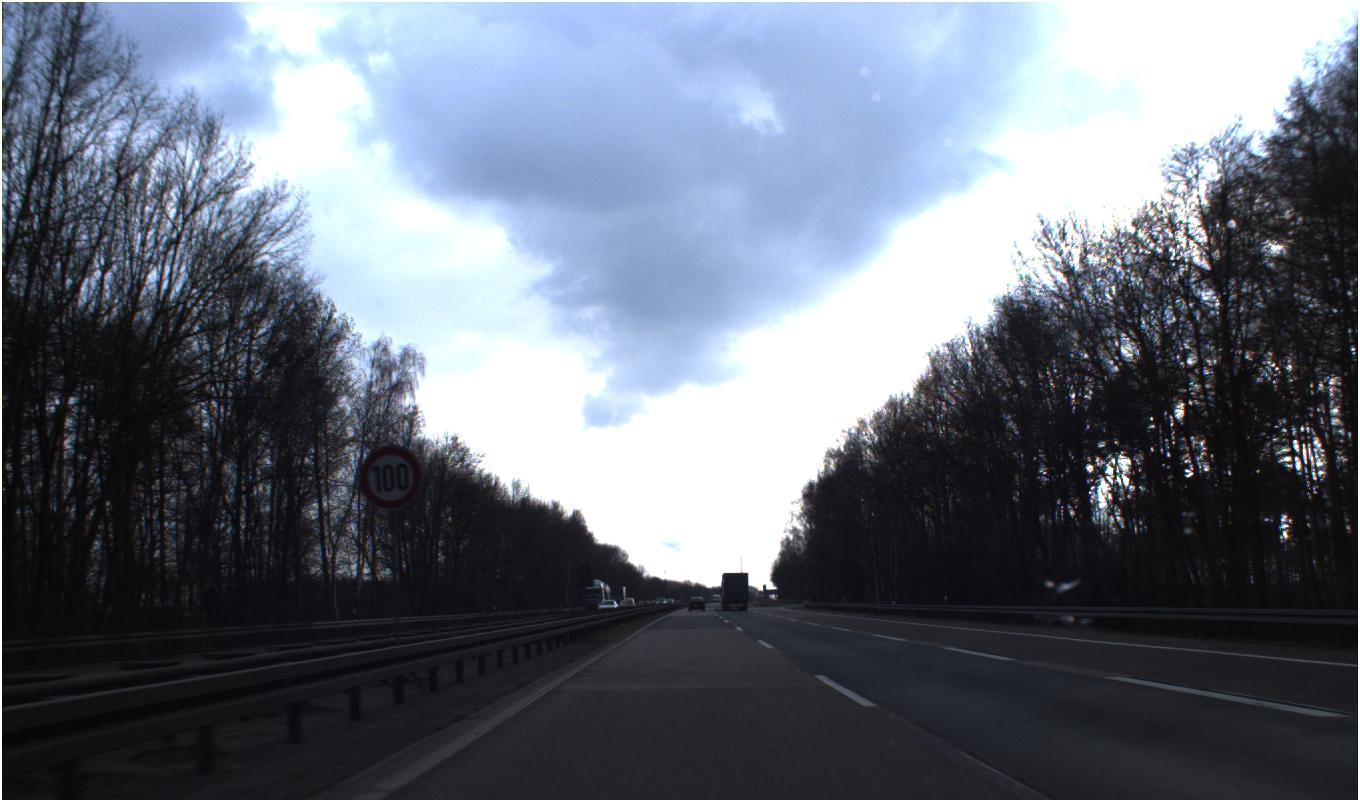prohibitory: (358, 443, 423, 512)
